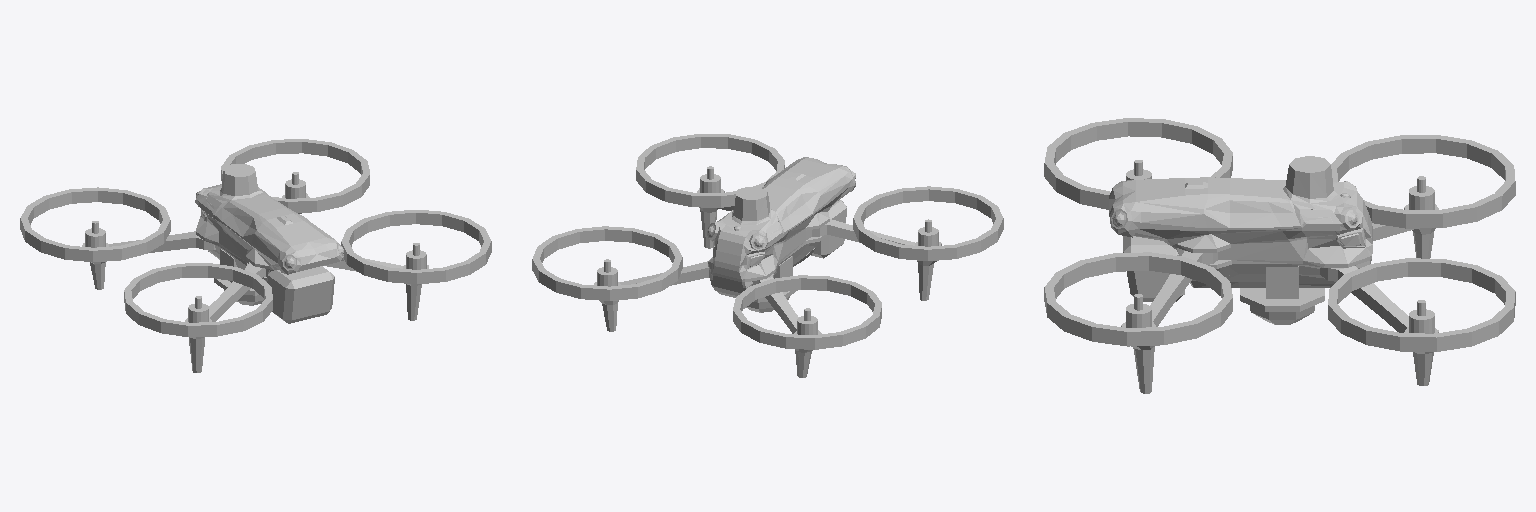
The robot description file, URDF, robot "DJI_Matrice_4":
<?xml version="1.0"?>
<!--
  Robot: DJI_Matrice_4
  Generated by: LinkForge v1.5.1
  https://github.com/arounamounchili/linkforge
  Date: 2026-08-29 23:15:47
-->
<robot name="DJI_Matrice_4">
  <!-- Materials -->
  <material name="Material">
    <color rgba="0.8 0.8 0.8 1" />
  </material>
  <!-- Links -->
  <link name="DJI_Matrice_4">
    <inertial>
      <origin xyz="0 0.085991 -0.087431" rpy="0 0 0" />
      <mass value="1.22" />
      <inertia ixx="0.203333" ixy="0" ixz="0" iyy="0.203333" iyz="0" izz="0.203333" />
    </inertial>
    <visual>
      <origin xyz="0 0.085991 -0.087321" rpy="0 0 0" />
      <geometry>
        <mesh filename="meshes\DJI_Matrice_4_visual.stl" />
      </geometry>
      <material name="Material" />
    </visual>
    <collision>
      <origin xyz="0 0.085991 -0.087431" rpy="0 0 0" />
      <geometry>
        <mesh filename="meshes\DJI_Matrice_4_collision.stl" />
      </geometry>
    </collision>
  </link>
  <!-- Sensors -->
  <gazebo reference="DJI_Matrice_4">
    <sensor name="Camera" type="camera">
      <always_on>true</always_on>
      <update_rate>30</update_rate>
      <visualize>false</visualize>
      <pose>0 -1.293669 -0.259111 0 0 0</pose>
      <camera>
        <horizontal_fov>1.047</horizontal_fov>
        <image>
          <width>640</width>
          <height>480</height>
          <format>R8G8B8</format>
        </image>
        <clip>
          <near>0.1</near>
          <far>100</far>
        </clip>
      </camera>
    </sensor>
  </gazebo>
  <gazebo reference="DJI_Matrice_4">
    <sensor name="Front_LIDAR" type="lidar">
      <always_on>true</always_on>
      <update_rate>30</update_rate>
      <visualize>false</visualize>
      <pose>0 -1.478651 0.270091 0 0 0</pose>
      <ray>
        <scan>
          <horizontal>
            <samples>640</samples>
            <resolution>1</resolution>
            <min_angle>-1.570796</min_angle>
            <max_angle>1.570796</max_angle>
          </horizontal>
        </scan>
        <range>
          <min>0.1</min>
          <max>10</max>
          <resolution>0.01</resolution>
        </range>
      </ray>
    </sensor>
  </gazebo>
  <gazebo reference="DJI_Matrice_4">
    <sensor name="Rear_LIDAR" type="lidar">
      <always_on>true</always_on>
      <update_rate>30</update_rate>
      <visualize>false</visualize>
      <pose>0 1.277068 0.366931 0 0 -3.141592</pose>
      <ray>
        <scan>
          <horizontal>
            <samples>640</samples>
            <resolution>1</resolution>
            <min_angle>-1.570796</min_angle>
            <max_angle>1.570796</max_angle>
          </horizontal>
        </scan>
        <range>
          <min>0.1</min>
          <max>10</max>
          <resolution>0.01</resolution>
        </range>
      </ray>
    </sensor>
  </gazebo>
  <gazebo reference="DJI_Matrice_4">
    <sensor name="_360_LIDAR" type="lidar">
      <always_on>true</always_on>
      <update_rate>60</update_rate>
      <visualize>false</visualize>
      <pose>0 0.10657 -0.839705 0.785398 0 0</pose>
      <ray>
        <scan>
          <horizontal>
            <samples>640</samples>
            <resolution>1</resolution>
            <min_angle>-1.570796</min_angle>
            <max_angle>1.570796</max_angle>
          </horizontal>
        </scan>
        <range>
          <min>0.1</min>
          <max>100</max>
          <resolution>0.01</resolution>
        </range>
      </ray>
    </sensor>
  </gazebo>
  <gazebo reference="DJI_Matrice_4">
    <sensor name="_360_Thermal" type="camera">
      <always_on>true</always_on>
      <update_rate>30</update_rate>
      <visualize>false</visualize>
      <pose>0 0.106482 -1.070614 0 0 0</pose>
      <camera>
        <horizontal_fov>3.124139</horizontal_fov>
        <image>
          <width>640</width>
          <height>480</height>
          <format>R8G8B8</format>
        </image>
        <clip>
          <near>0.1</near>
          <far>100</far>
        </clip>
      </camera>
    </sensor>
  </gazebo>
</robot>

--- Facts derived from the render (not from the file) ---
Views: 3 orthographic renders of the robot side by side, from view 1: azimuth 30°, elevation 25°; view 2: azimuth 150°, elevation 25°; view 3: azimuth 270°, elevation 25°.
Robot: DJI_Matrice_4 — 1 links, 0 joints (none); root link DJI_Matrice_4; default pose: all joints at 0.
Visible links, largest first — view 1: DJI_Matrice_4; view 2: DJI_Matrice_4; view 3: DJI_Matrice_4.
Link boxes in pixels (left/top/right/bottom): DJI_Matrice_4: left=20, top=139, right=491, bottom=372; DJI_Matrice_4: left=532, top=134, right=1003, bottom=377; DJI_Matrice_4: left=1044, top=118, right=1515, bottom=393.
Size in the robot's own frame: 4.31 by 4.01 by 1.51 metres.
1 mesh visuals loaded from 1 distinct referenced files (1 binary STL).
